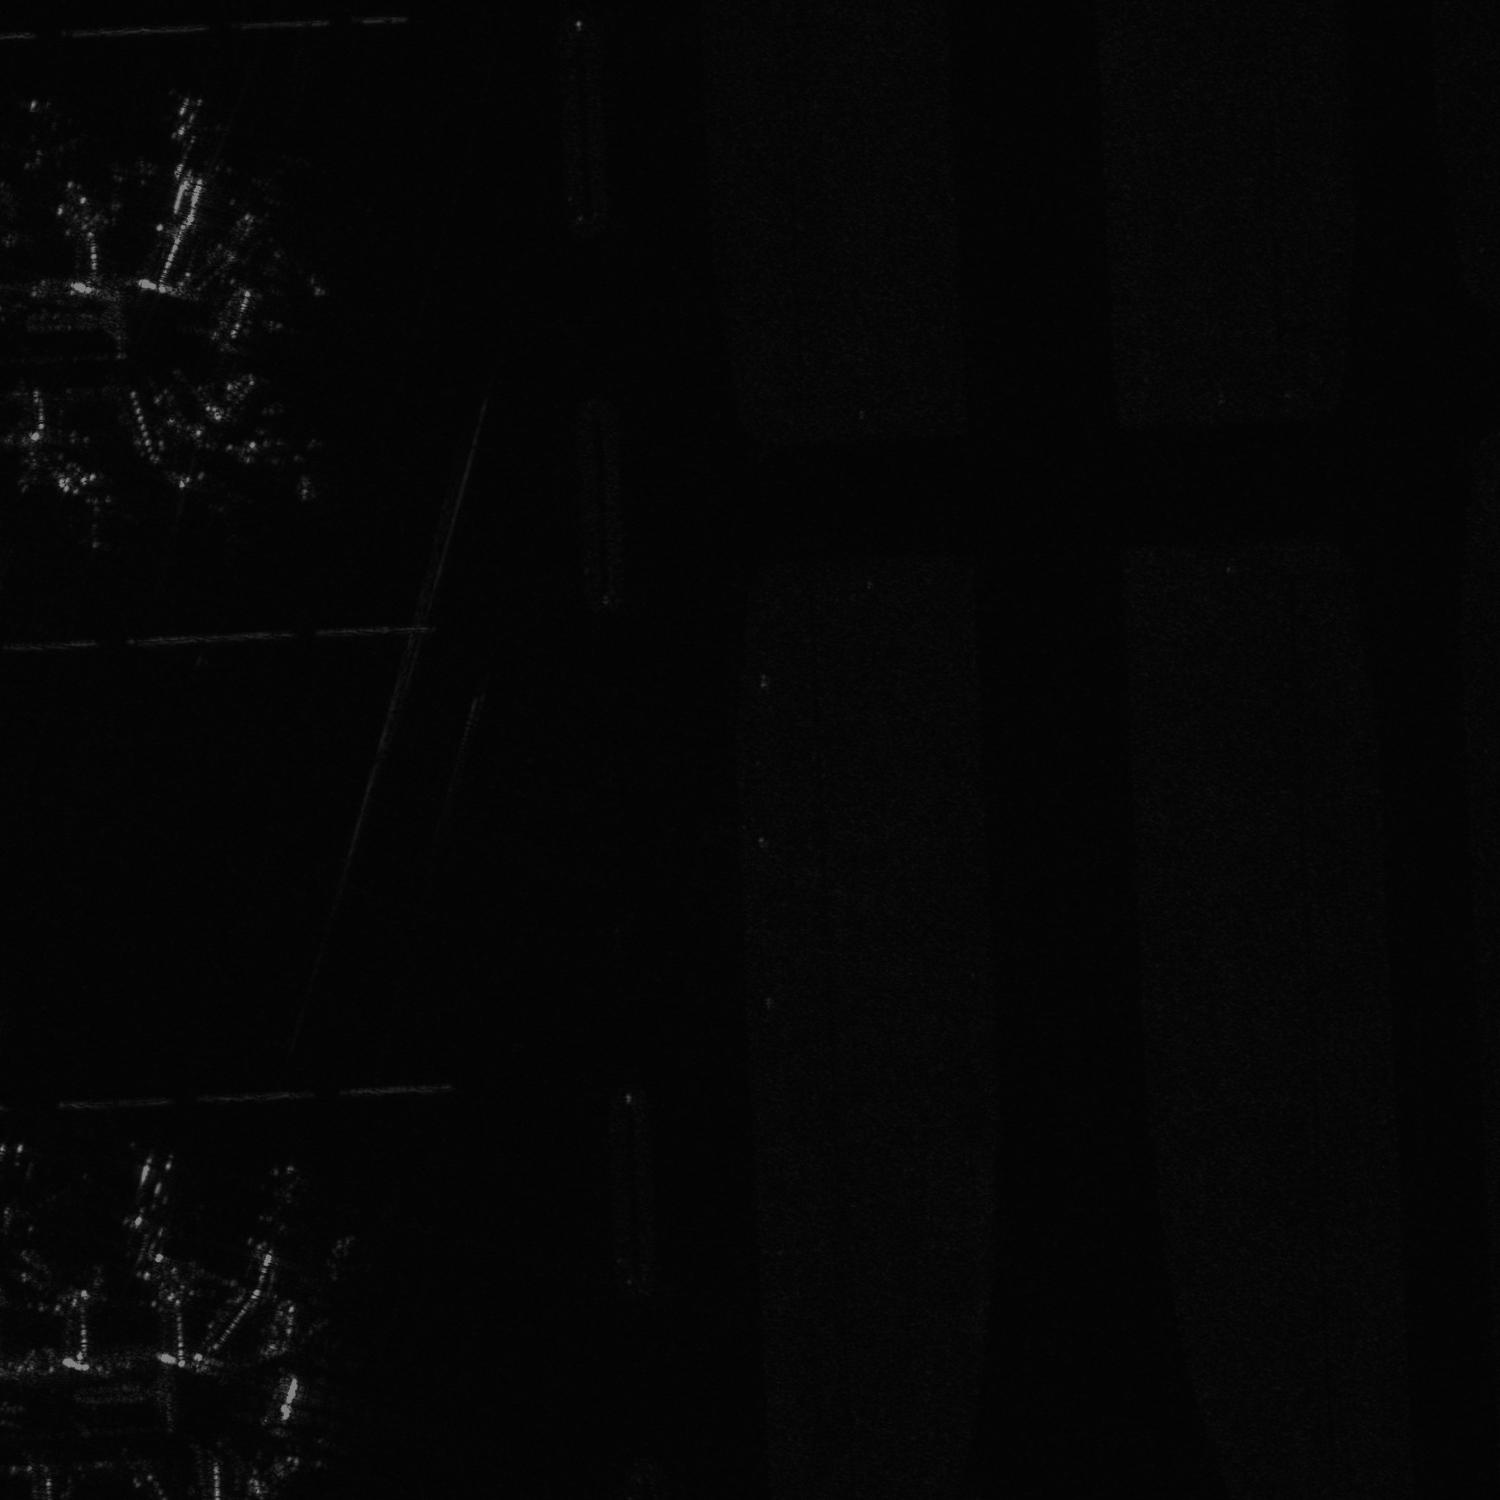A220: (231, 1152, 332, 1260), (236, 236, 310, 299), (235, 158, 299, 227), (324, 1234, 379, 1280)
A320/321: (91, 1148, 217, 1245), (49, 457, 140, 556), (1, 91, 102, 174), (216, 400, 308, 479), (146, 87, 234, 146)
Boeing737: (163, 462, 249, 523)
other: (1, 1130, 88, 1239)
